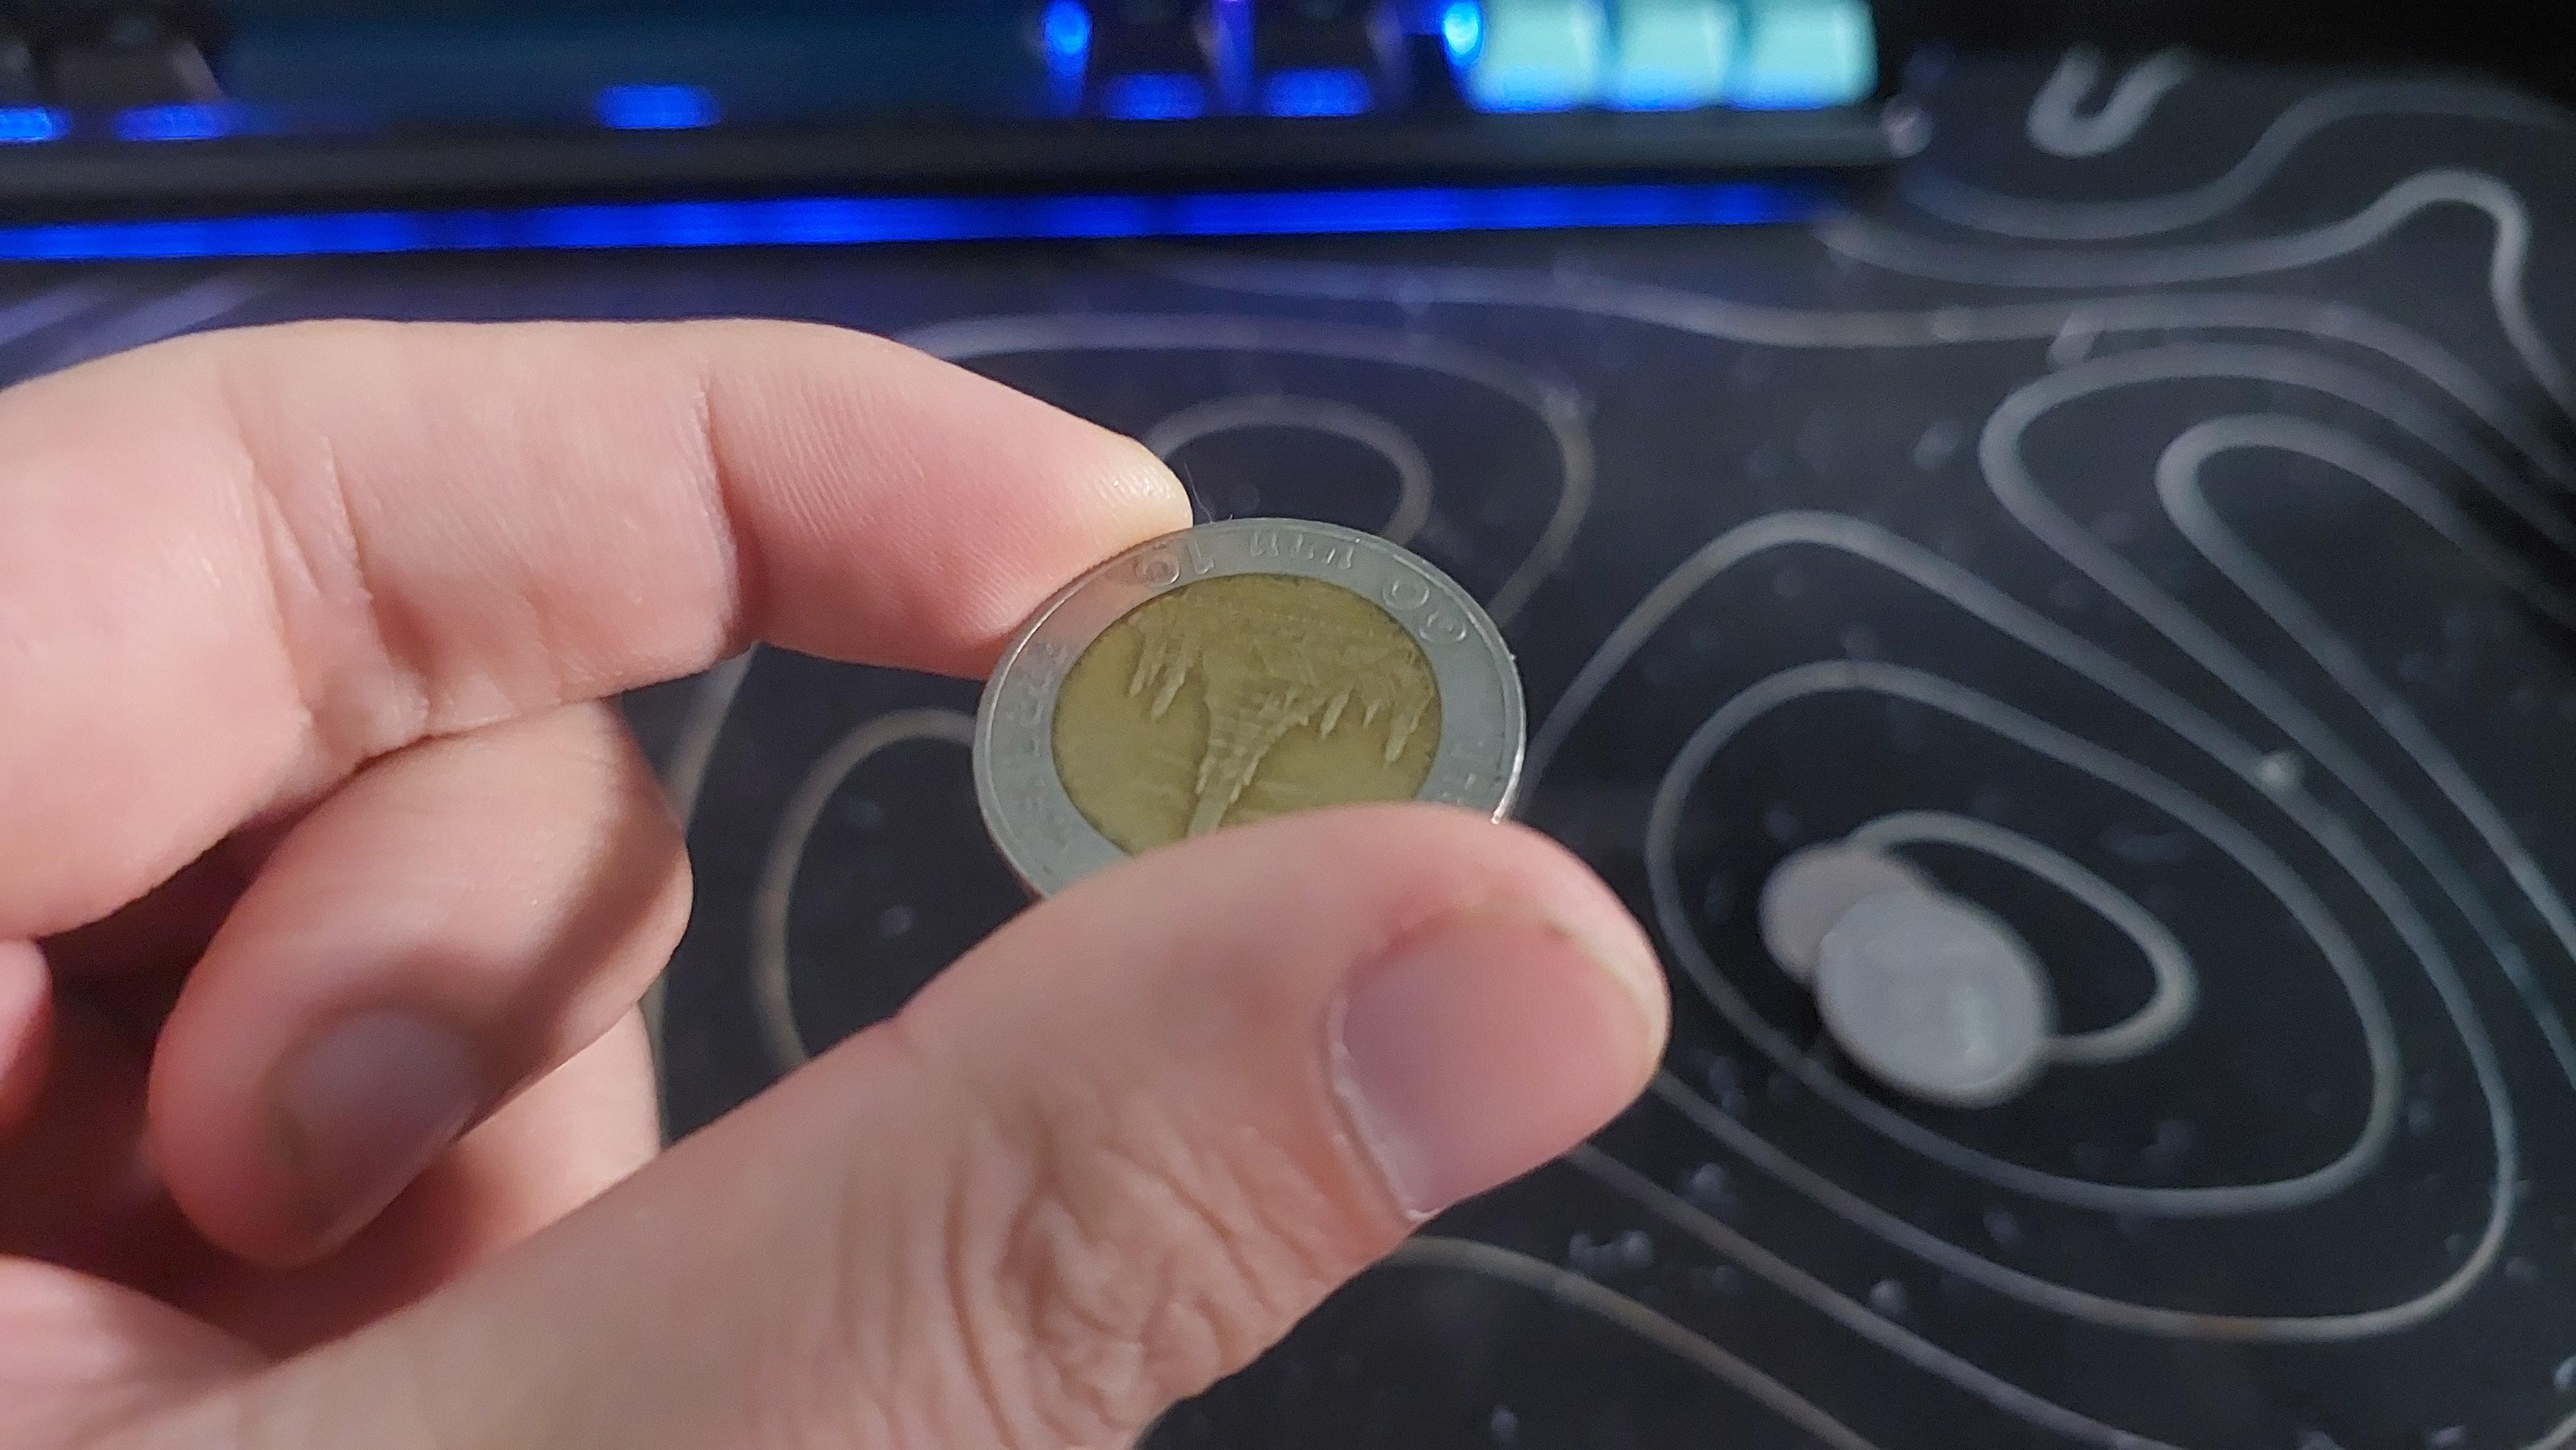10baht: (909, 423, 1622, 1008)
